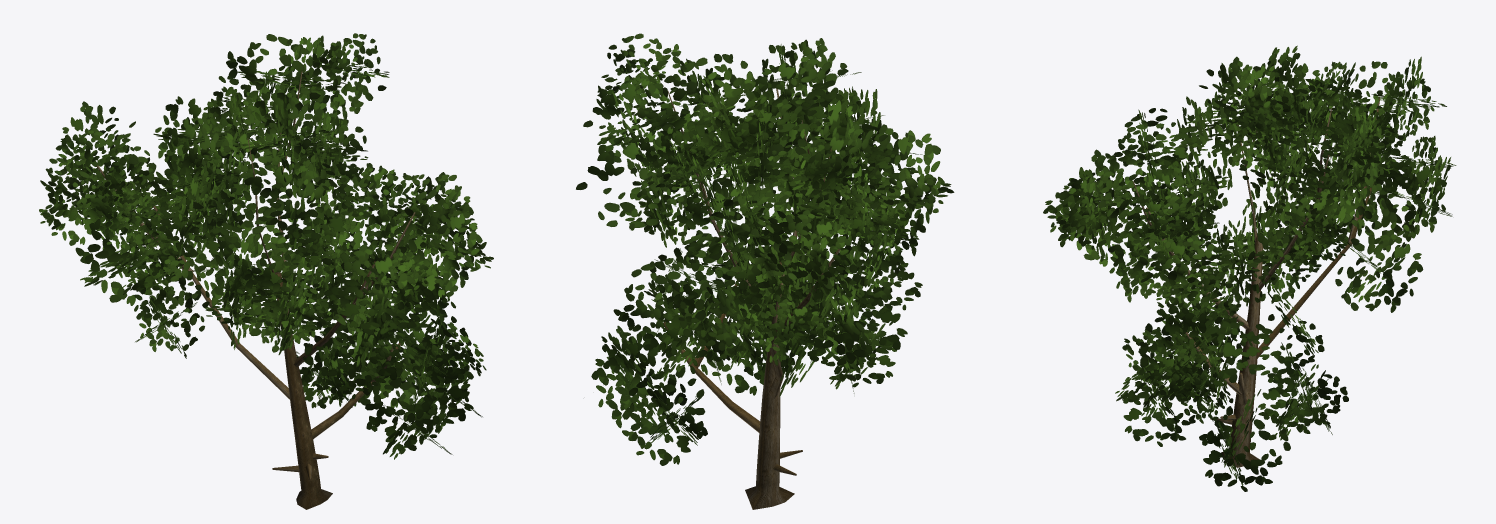
The model's file is env_tree_prairie_wide_01.glb.
The picture shows the model from 3 angles, left to right: view 1: azimuth 30°, elevation 25°; view 2: azimuth 150°, elevation 25°; view 3: azimuth 270°, elevation 25°; orthographic projection. The views are drawn at different scales.
Visible parts, largest first — view 1: tree_prairie_wide_01; view 2: tree_prairie_wide_01; view 3: tree_prairie_wide_01.
Boxes of the visible parts, x1,y1,x2,y2 form: tree_prairie_wide_01: (39,33,493,509); tree_prairie_wide_01: (576,33,954,509); tree_prairie_wide_01: (1043,45,1456,491).
Bounding box in the file's own units: 7.78 × 8.57 × 8.32.
Materials: 2 (2 with a texture image).
